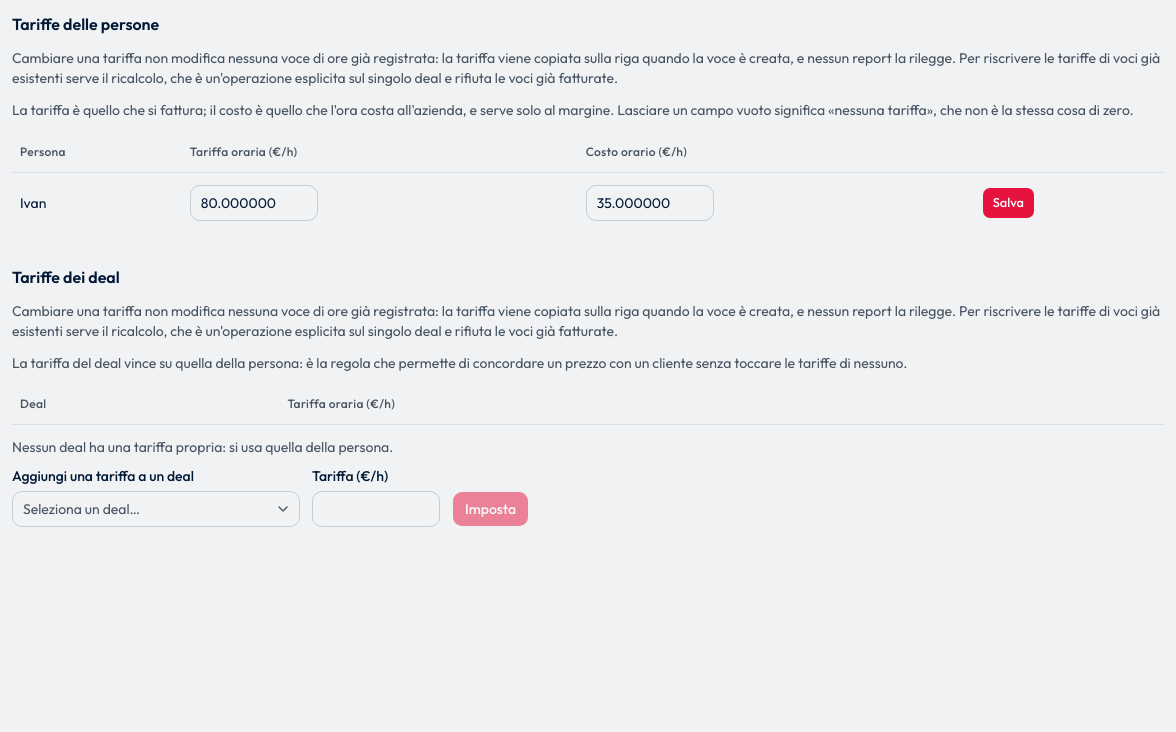
RatesPanel › clears the previous failure when the retry succeeds
Click the button "Salva".
click(1008, 202)  # box top-left (982, 186), bottom-right (1035, 218)
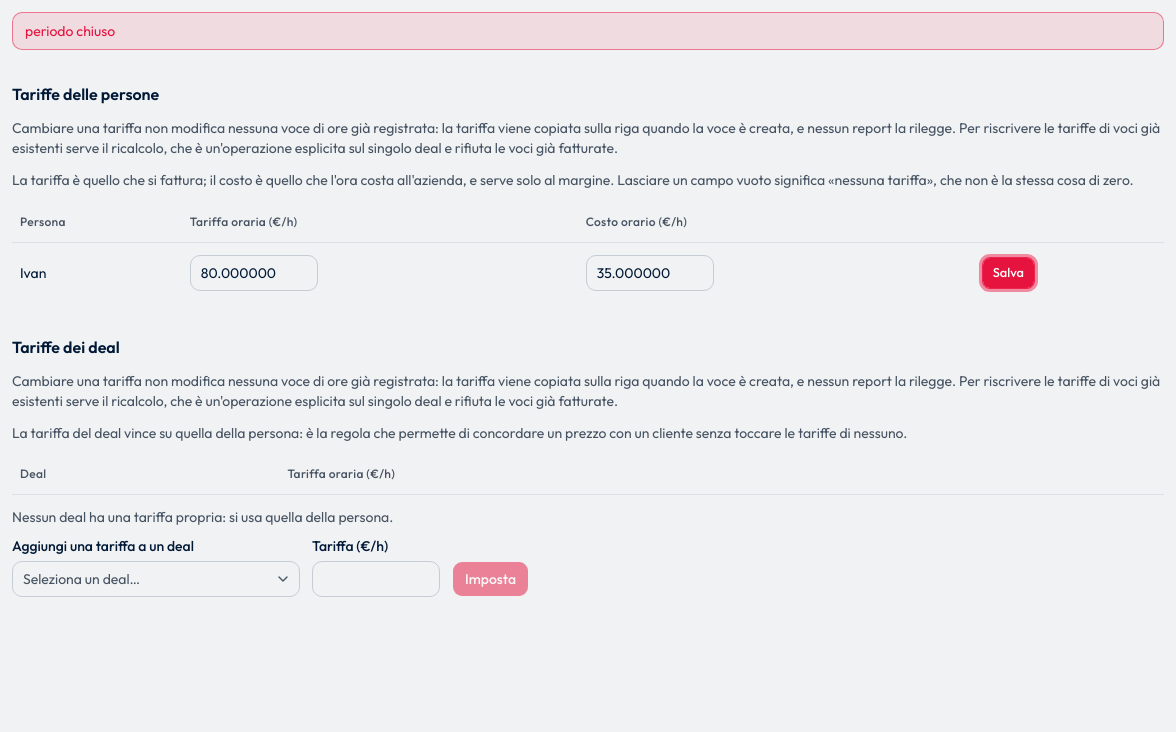
Now the message reads "periodo chiuso", box top-left (25, 22), bottom-right (115, 40)
Click the button "Salva".
click(1008, 272)  # box top-left (982, 256), bottom-right (1035, 288)
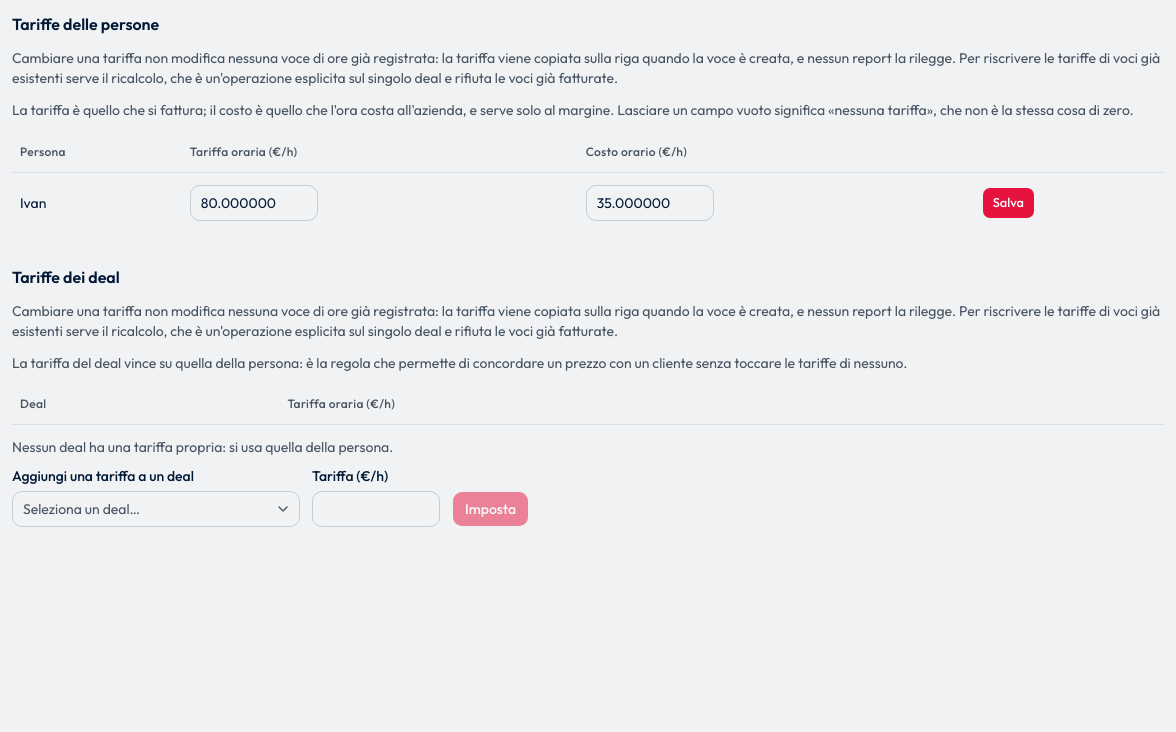
Now the message "periodo chiuso" is gone
